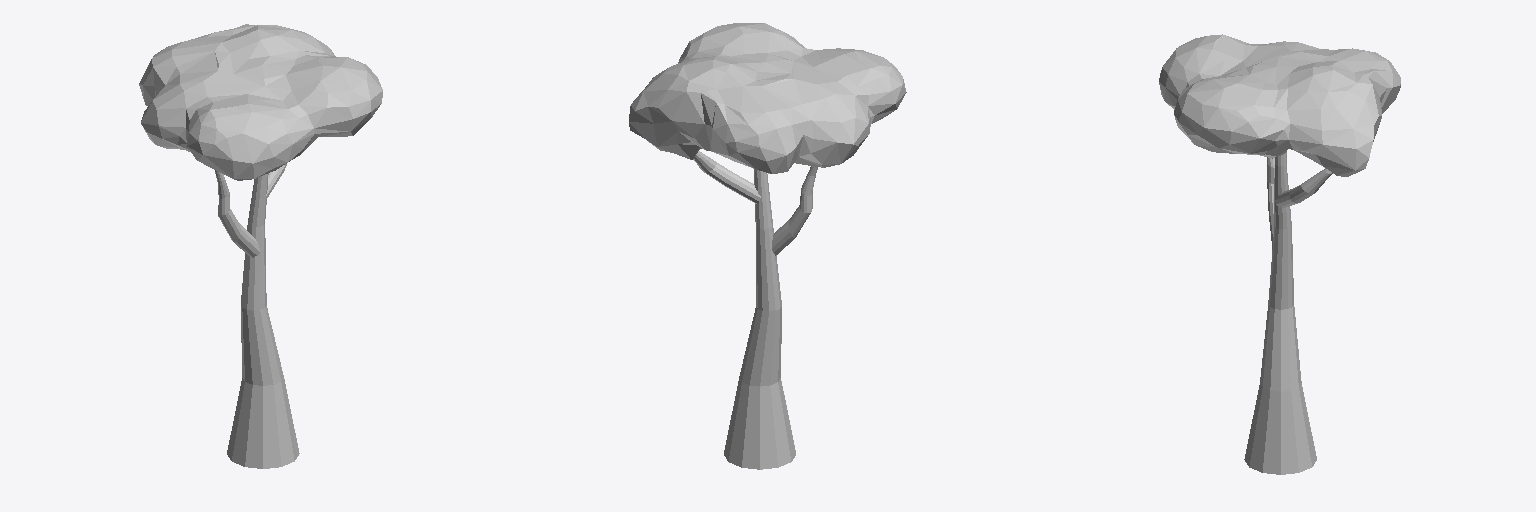
The model's file is Árvore_Teste.obj.
The picture shows the model from 3 angles: view 1: azimuth 30°, elevation 25°; view 2: azimuth 150°, elevation 25°; view 3: azimuth 270°, elevation 25°; orthographic projection.
Parts seen in each view (by area): view 1: Esfera_icosaédrica.006; view 2: Esfera_icosaédrica.006; view 3: Esfera_icosaédrica.006.
Part boxes in pixels (x1,y1,x2,y2): Esfera_icosaédrica.006: (139, 24, 382, 468); Esfera_icosaédrica.006: (629, 23, 906, 469); Esfera_icosaédrica.006: (1159, 34, 1400, 474).
Size of the model in its own units: 6.38 by 12.11 by 6.66.